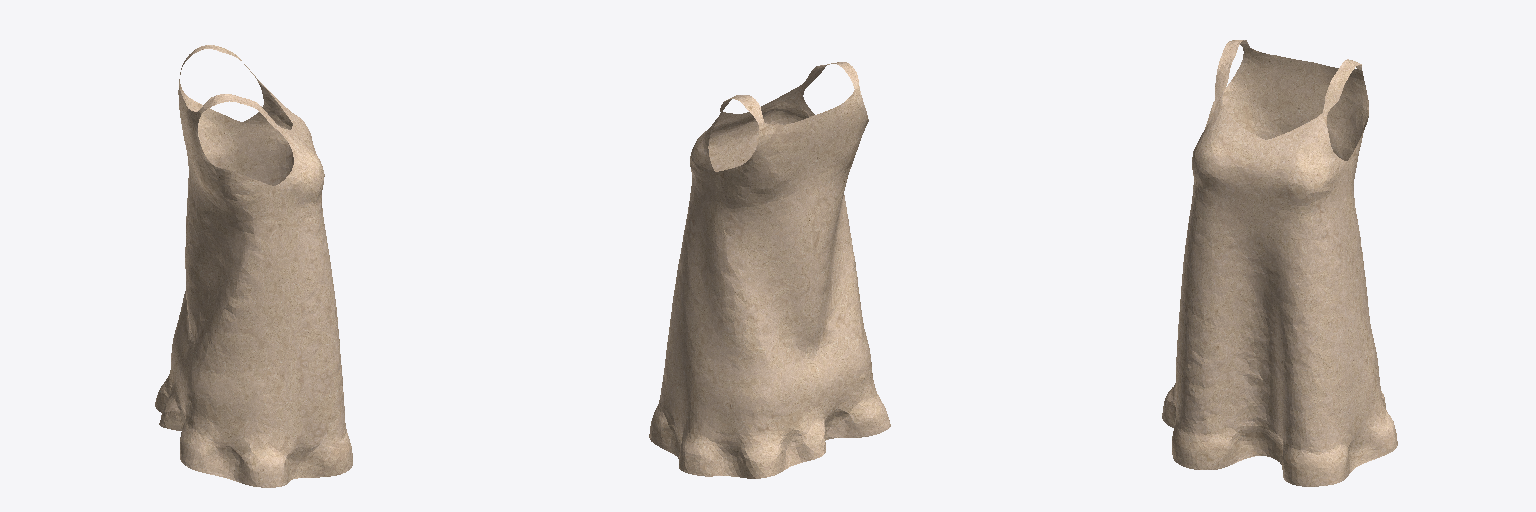
The picture shows the model from 3 angles: view 1: azimuth 30°, elevation 25°; view 2: azimuth 150°, elevation 25°; view 3: azimuth 270°, elevation 25°; orthographic projection.
Size of the model in its own units: 14.5 by 27.37 by 15.47.
1 materials, 1 textured.